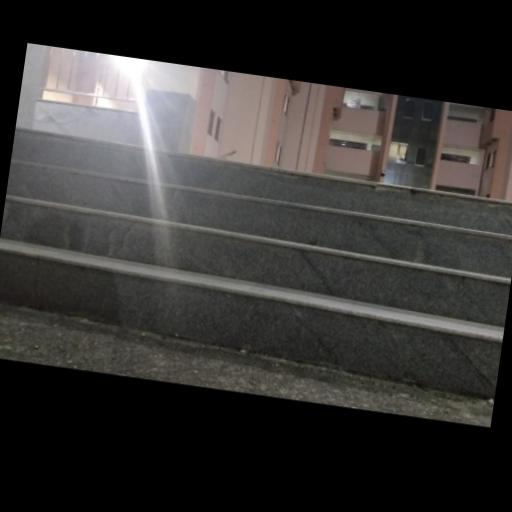stairs: (0, 129, 511, 398)
